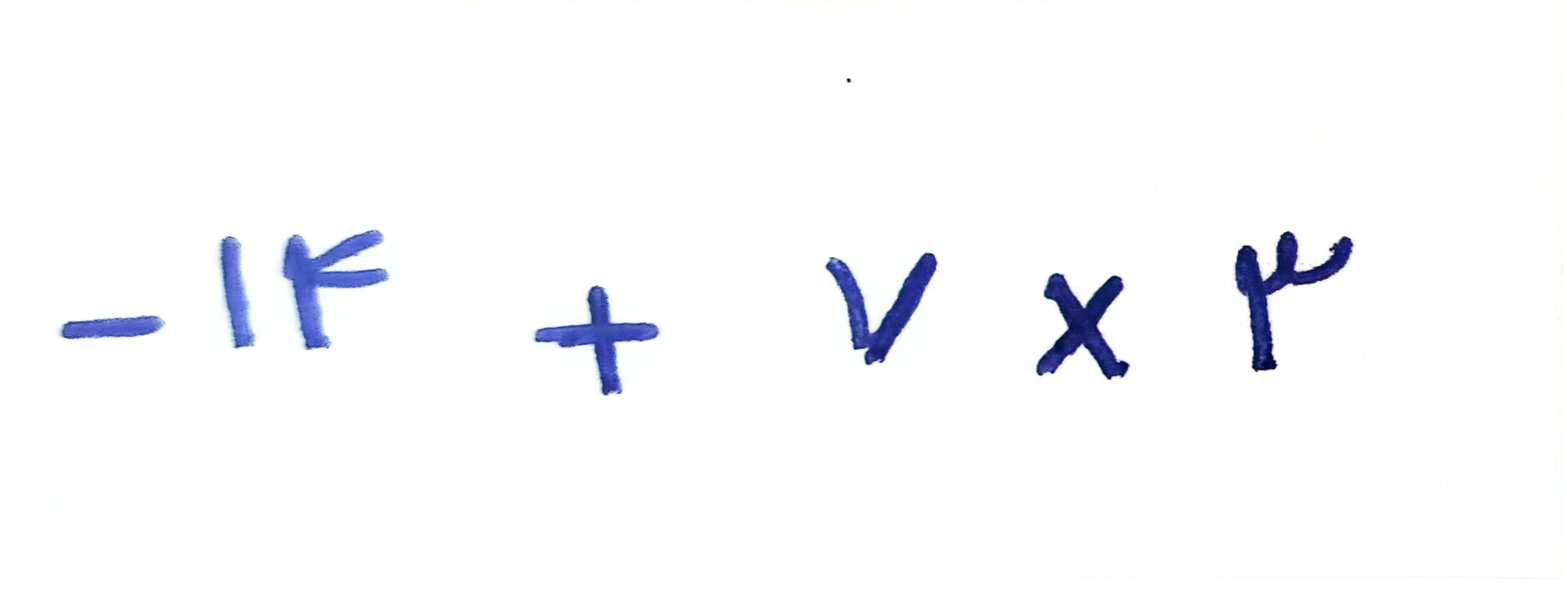character: (1234, 233, 1353, 370), (534, 283, 658, 397), (281, 224, 388, 348), (824, 253, 936, 365), (1038, 273, 1132, 380), (221, 234, 254, 346), (60, 313, 166, 341)
